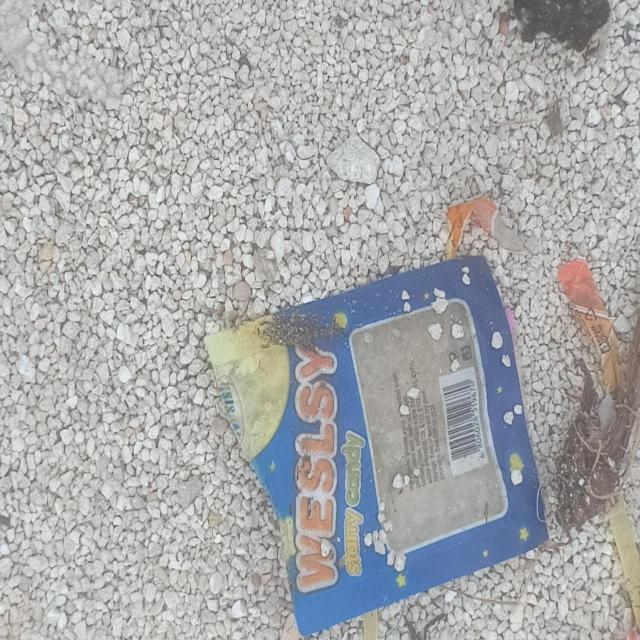plastic_waste: (202, 255, 552, 639)
